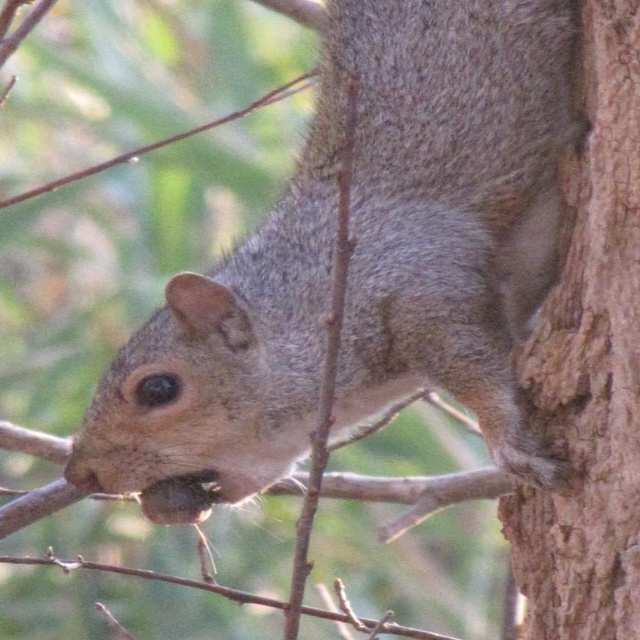Squirrel: (61, 0, 593, 575)
